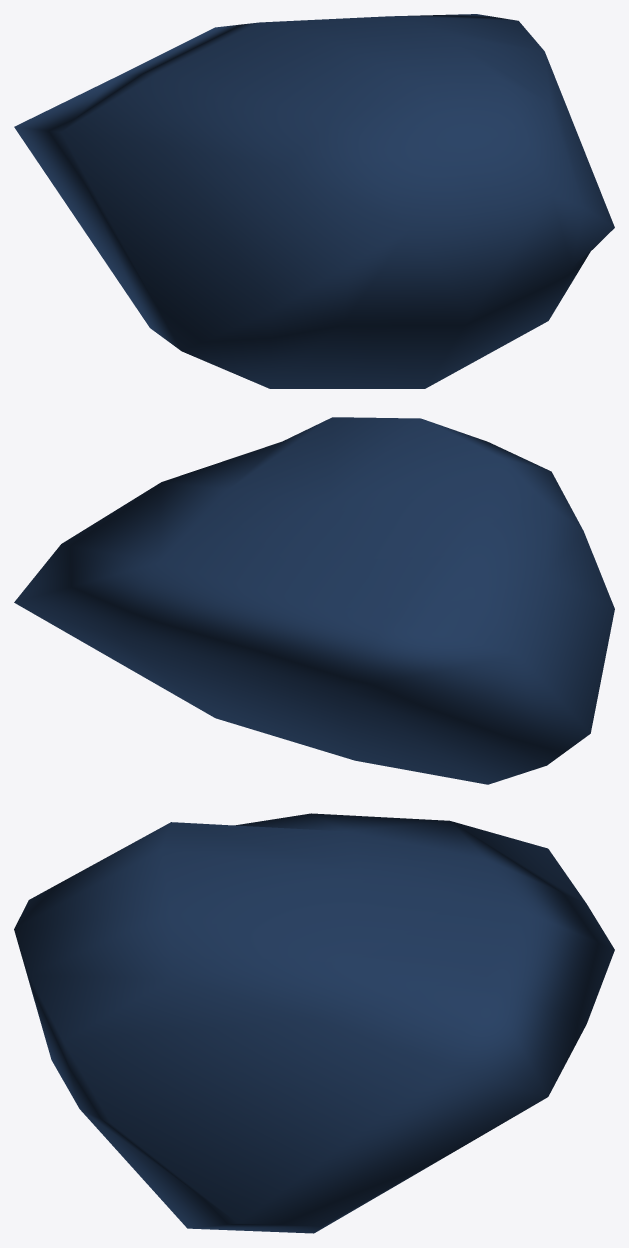
Rendered from Beard_Blue_1.fbx.
3 renders of one model, top to bottom at view 1: azimuth 30°, elevation 25°; view 2: azimuth 150°, elevation 25°; view 3: azimuth 270°, elevation 25°, orthographic. The views are drawn at different scales.
Visible parts, largest first — view 1: Beard_Blue_1; view 2: Beard_Blue_1; view 3: Beard_Blue_1.
Part boxes in pixels (x1,y1,x2,y2): Beard_Blue_1: (14,14,614,388); Beard_Blue_1: (14,417,614,784); Beard_Blue_1: (14,813,614,1233).
Size of the model in its own units: 14.67 by 9.05 by 15.
